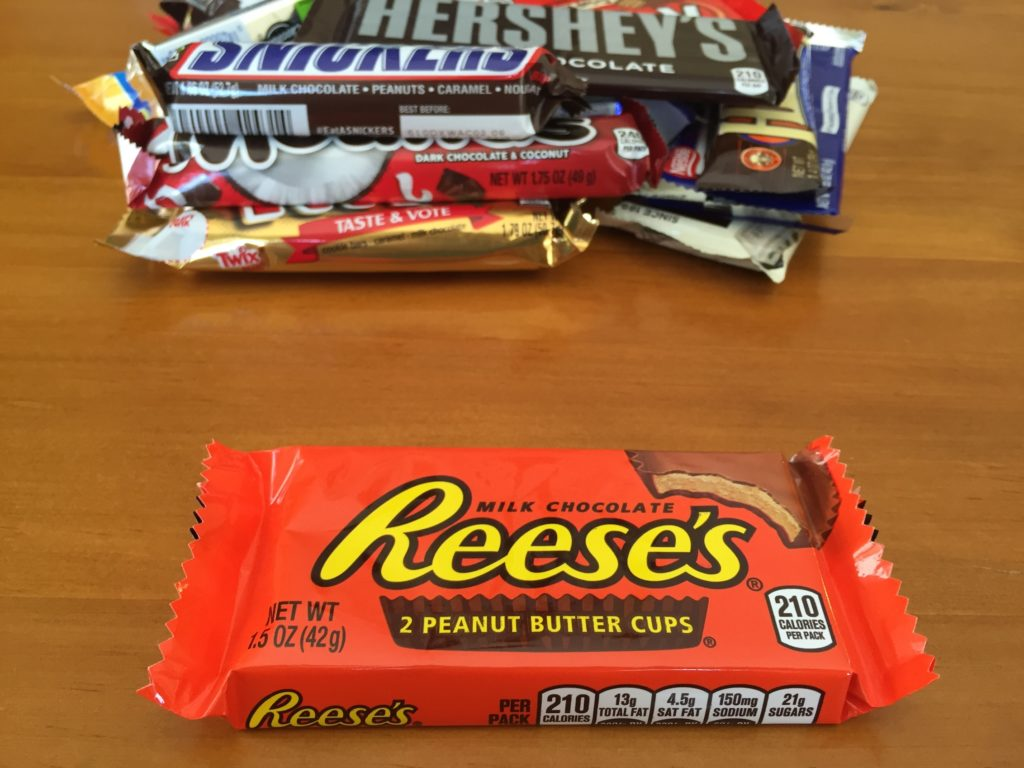reese: (156, 435, 936, 730)
